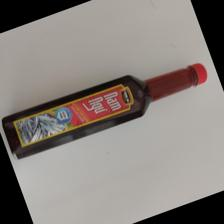Namngu: (2, 63, 208, 161)
